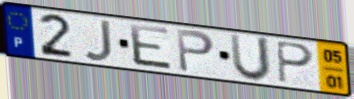2: (36, 12, 77, 61)
E: (127, 22, 175, 72)
J: (82, 19, 115, 64)
P: (174, 27, 217, 75), (274, 39, 316, 85)
U: (228, 31, 273, 84)
